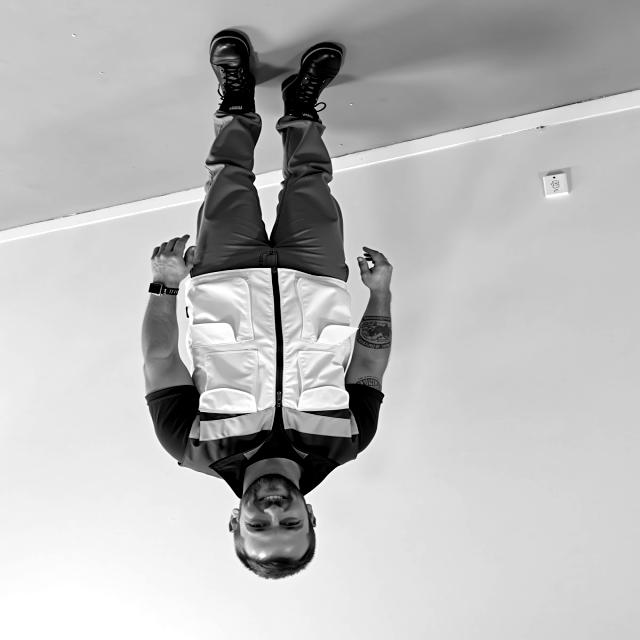Boots: (277, 38, 352, 119), (203, 24, 264, 123)
Vest: (196, 273, 352, 459)
